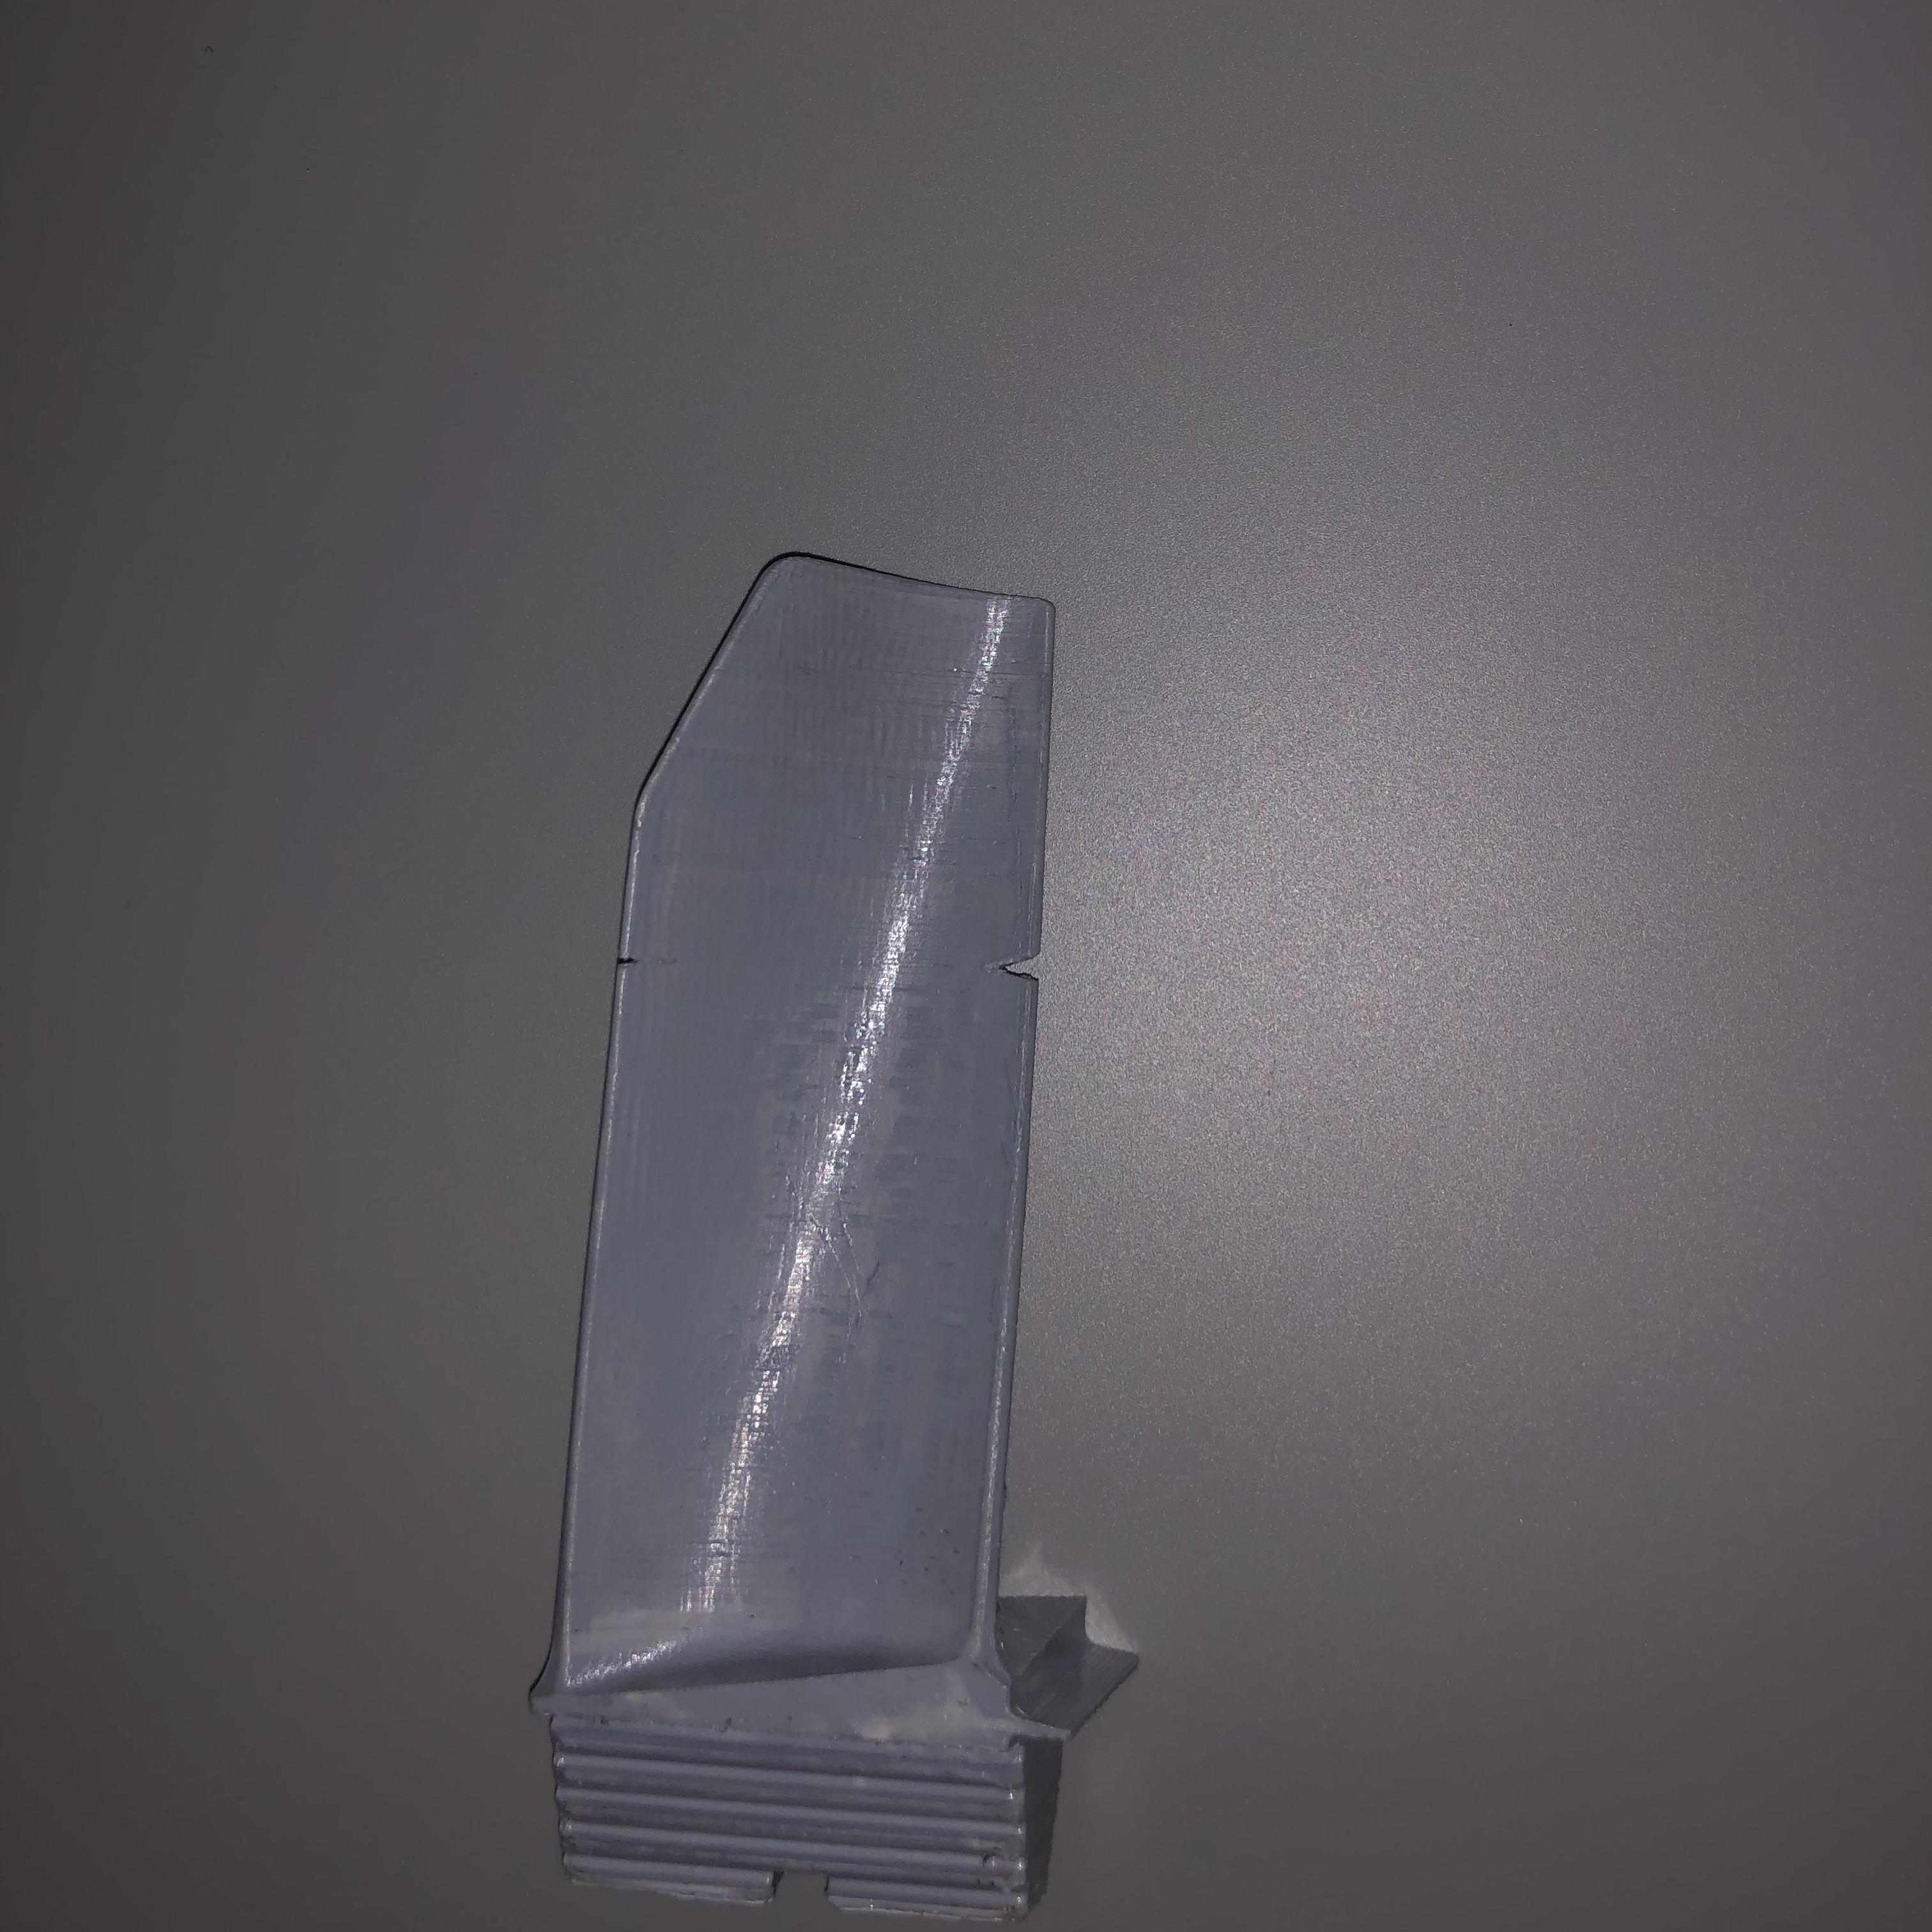groove: (996, 950, 1042, 994), (614, 950, 649, 977)
